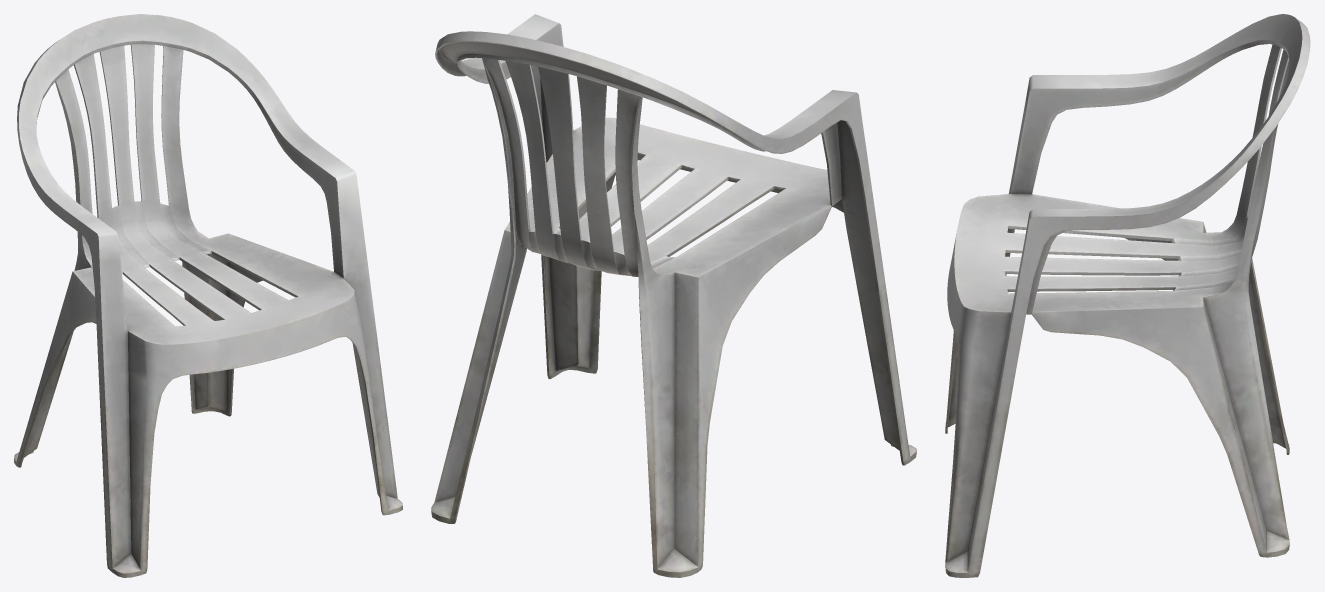
Rendered from chair-monobloc.glb.
The picture shows the model from 3 angles, left to right: view 1: azimuth 30°, elevation 25°; view 2: azimuth 150°, elevation 25°; view 3: azimuth 270°, elevation 25°; orthographic projection. The views are drawn at different scales.
Visible parts, largest first — view 1: plastic_monobloc_chair_01; view 2: plastic_monobloc_chair_01; view 3: plastic_monobloc_chair_01.
Boxes of the visible parts, box(x1,y1,x2,y2) form: plastic_monobloc_chair_01: box(14, 14, 402, 577); plastic_monobloc_chair_01: box(431, 14, 916, 577); plastic_monobloc_chair_01: box(945, 14, 1310, 577).
Size of the model in its own units: 0.6399 by 0.88 by 0.63.
1 material, 1 textured.
